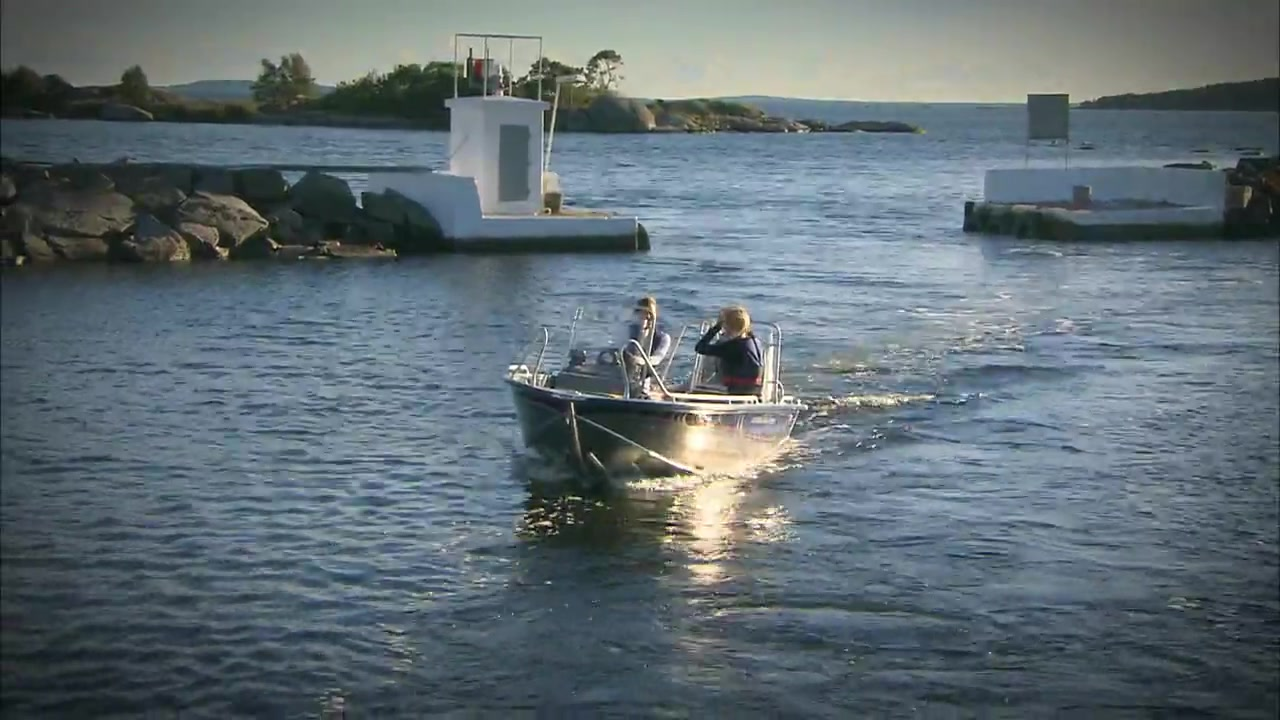boat: (504, 299, 813, 502)
